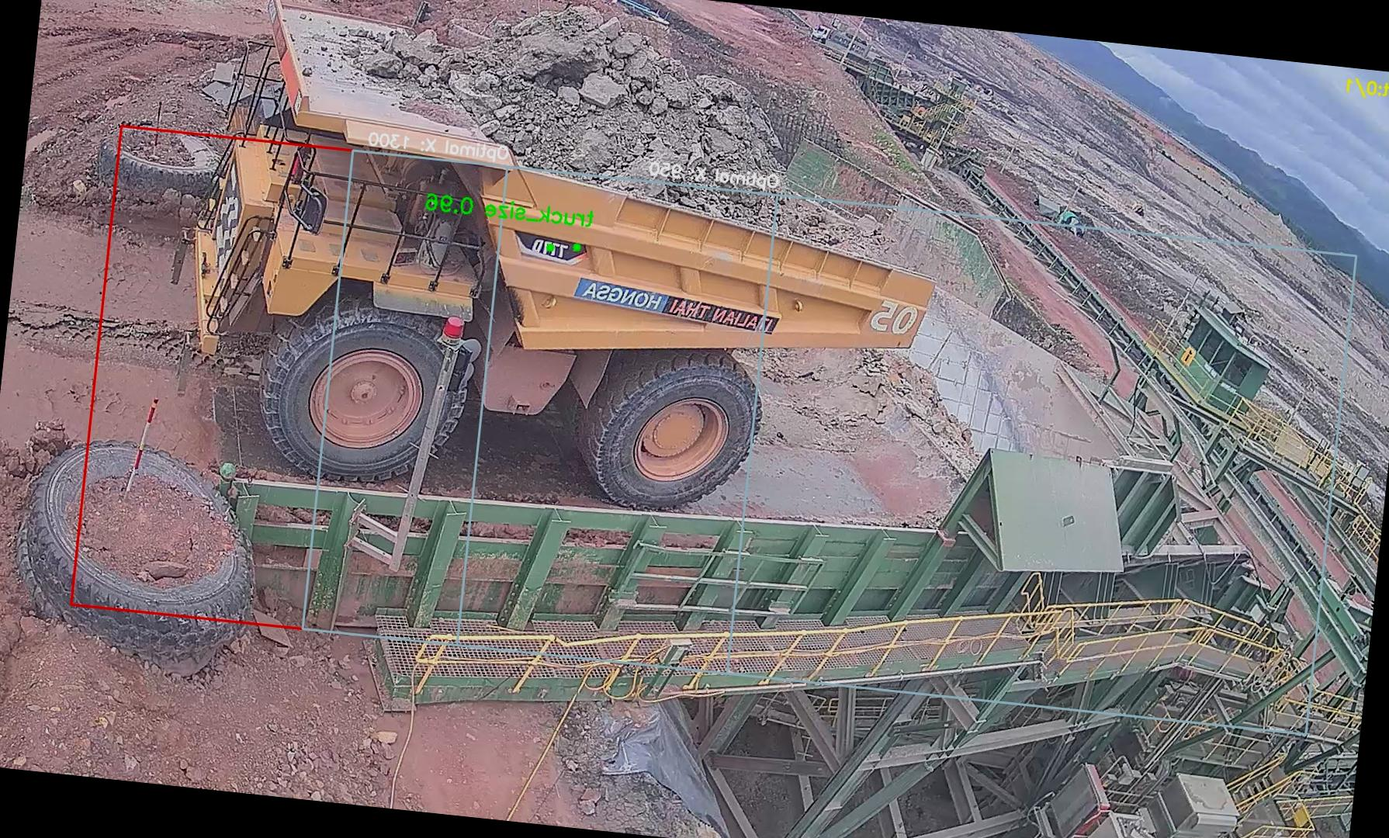company: (561, 270, 784, 336)
full_load: (466, 0, 815, 222)
mining_truck: (144, 0, 966, 542)
tail_number: (861, 290, 922, 345)
truck_size: (500, 220, 594, 268)
